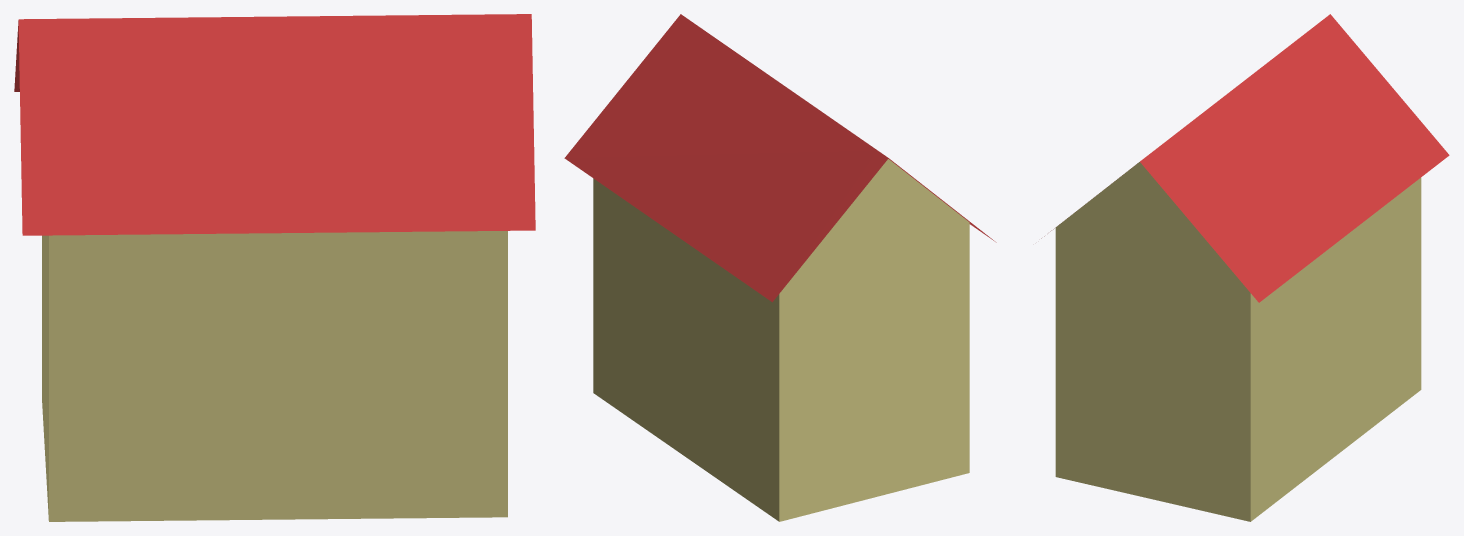
The picture shows the model from 3 angles, left to right: view 1: azimuth 30°, elevation 25°; view 2: azimuth 150°, elevation 25°; view 3: azimuth 270°, elevation 25°; orthographic projection. The views are drawn at different scales.
Size of the model in its own units: 17 by 15.09 by 13.59.
